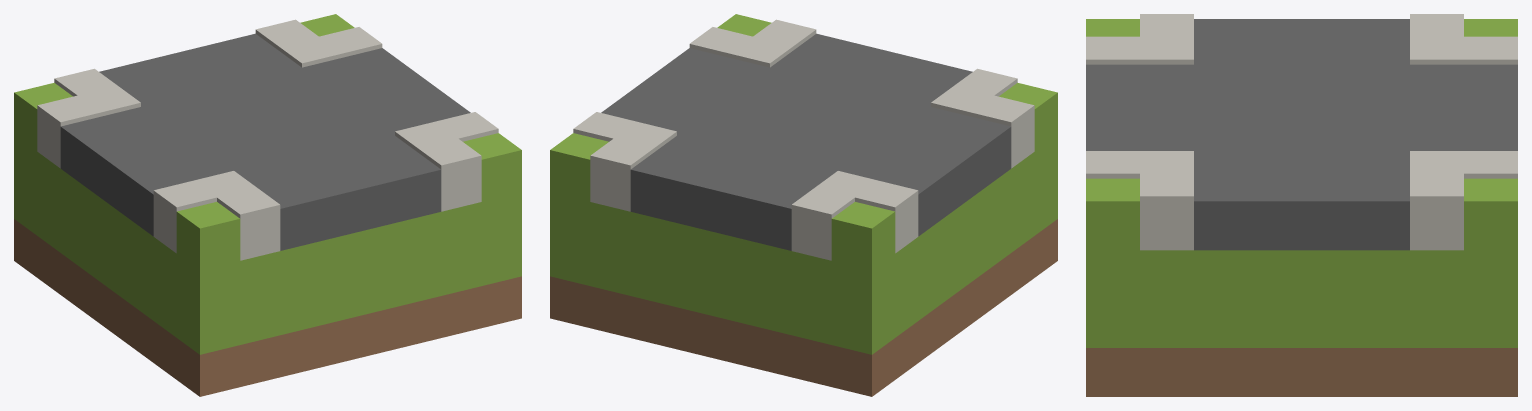
Rendered from road-crossing-high.obj.
The picture shows the model from 3 angles, left to right: view 1: azimuth 30°, elevation 25°; view 2: azimuth 150°, elevation 25°; view 3: azimuth 270°, elevation 25°; orthographic projection. The views are drawn at different scales.
Parts seen in each view (by area): view 1: road-crossing-high_Cube.552; view 2: road-crossing-high_Cube.552; view 3: road-crossing-high_Cube.552.
Boxes of the visible parts, x1,y1,x2,y2 form: road-crossing-high_Cube.552: [14, 14, 521, 396]; road-crossing-high_Cube.552: [550, 14, 1057, 396]; road-crossing-high_Cube.552: [1086, 14, 1517, 396].
Bounding box in the file's own units: 8 × 4.1 × 8.
Materials: 1 (1 with a texture image).
